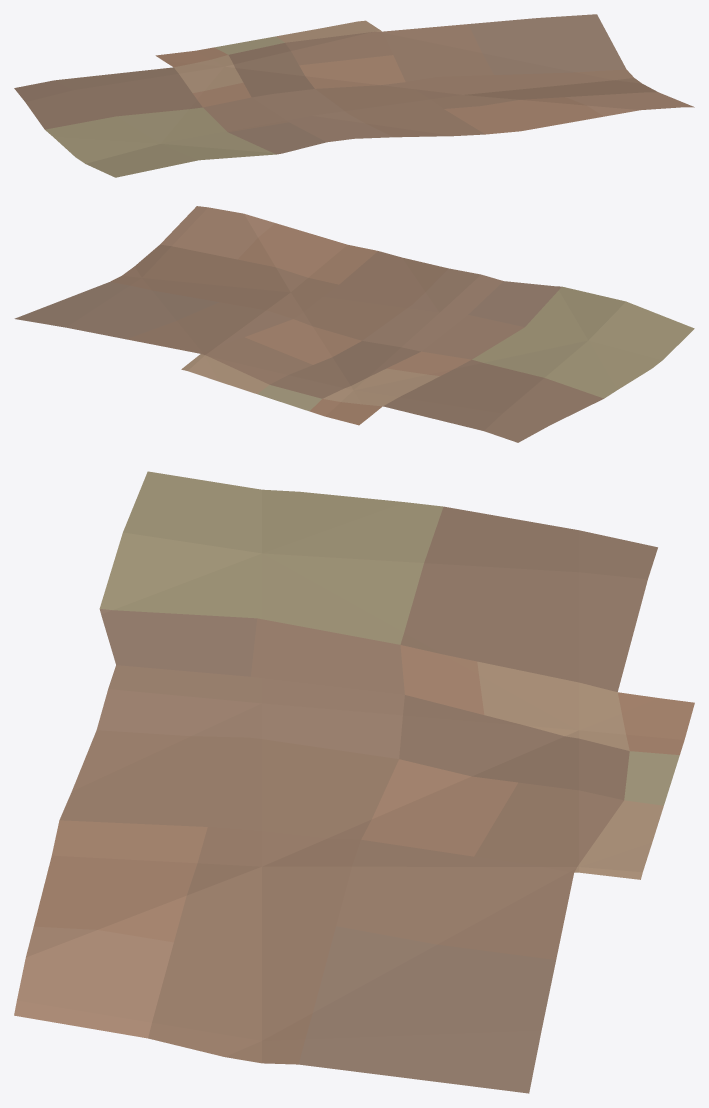
Rendered from farm_-32_-33_soil.glb.
3 views of the same model, one above another, from view 1: azimuth 30°, elevation 25°; view 2: azimuth 150°, elevation 25°; view 3: azimuth 270°, elevation 25° (orthographic). The views are drawn at different scales.
Visible parts, largest first — view 1: geometry_0; view 2: geometry_0; view 3: geometry_0.
Boxes of the visible parts, box(x1,y1,x2,y2) form: geometry_0: box(14, 14, 694, 177); geometry_0: box(14, 206, 694, 442); geometry_0: box(14, 471, 694, 1093).
Bounding box in the file's own units: 310 × 30.96 × 172.
